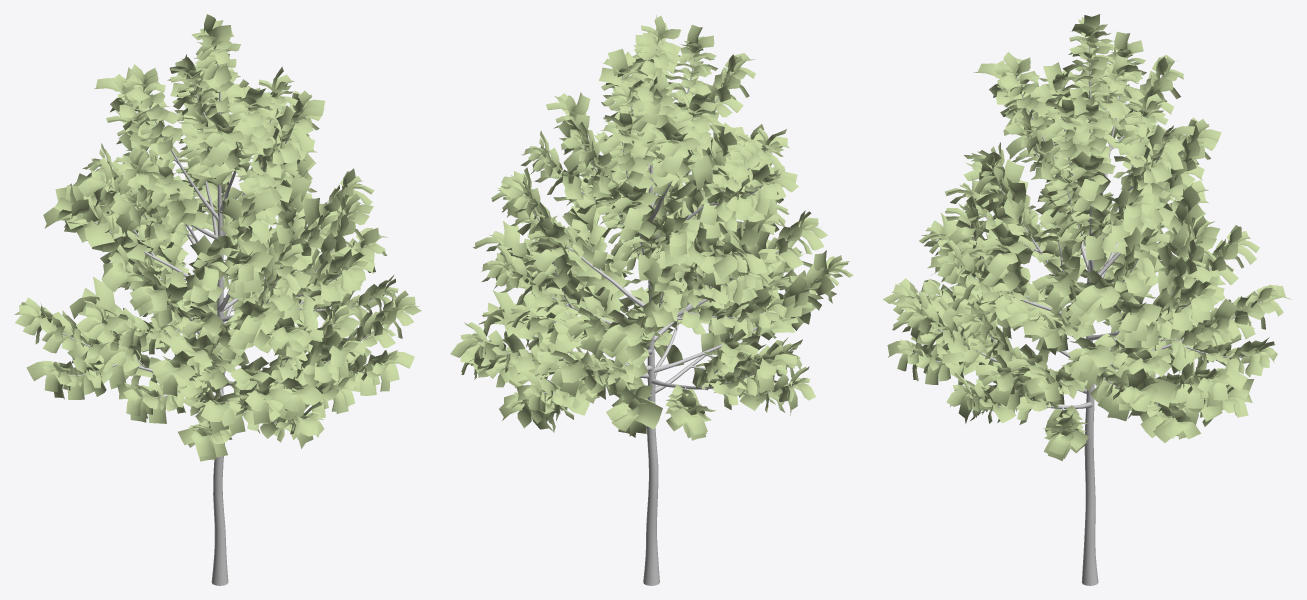
Rendered from tree-08.FBX.
3 views of the same model, side by side, from view 1: azimuth 30°, elevation 25°; view 2: azimuth 150°, elevation 25°; view 3: azimuth 270°, elevation 25° (orthographic).
Parts seen in each view (by area): view 1: tree008; view 2: tree008; view 3: tree008.
Boxes of the visible parts, <box> form: tree008: <box>14,14,421,585</box>; tree008: <box>450,15,853,585</box>; tree008: <box>882,14,1291,585</box>.
Size of the model in its own units: 245 by 380 by 250.
